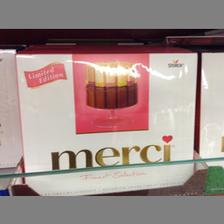Schokolade: (13, 47, 197, 192)
